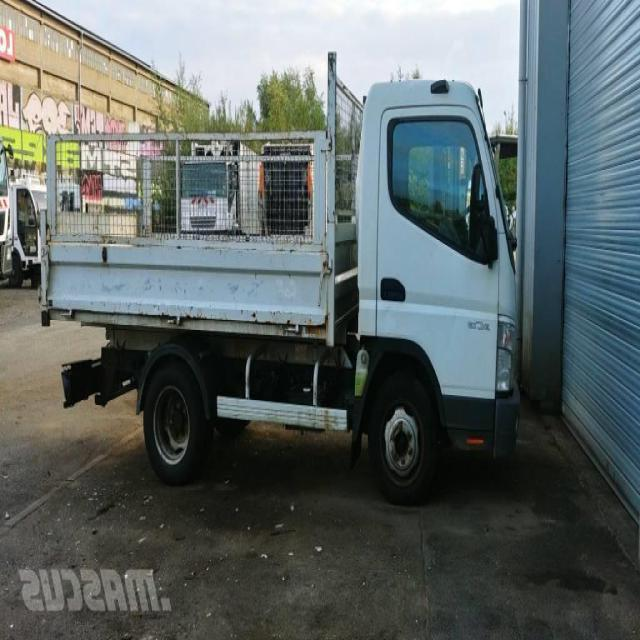truck: (38, 52, 524, 504)
